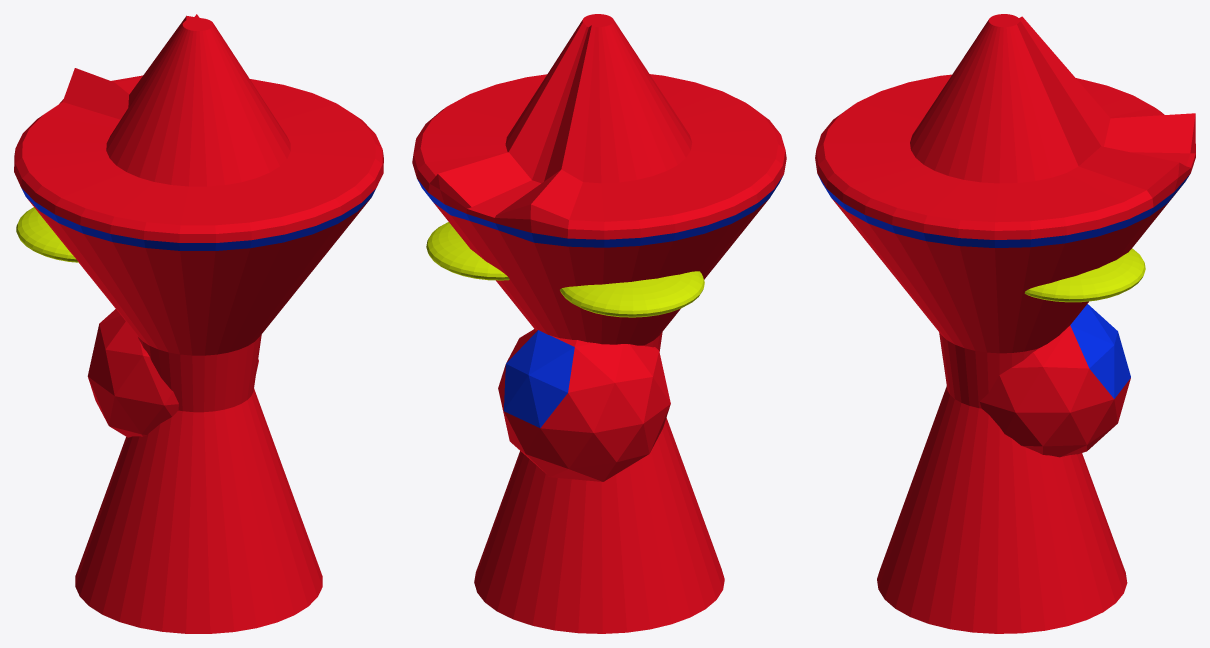
The model's file is randomnessssss.fbx.
3 renders of one model, left to right at view 1: azimuth 30°, elevation 25°; view 2: azimuth 150°, elevation 25°; view 3: azimuth 270°, elevation 25°, orthographic.
Visible parts, largest first — view 1: THe THing; view 2: THe THing; view 3: THe THing.
Part boxes in pixels (x1,y1,x2,y2): THe THing: [14, 14, 383, 633]; THe THing: [412, 14, 786, 633]; THe THing: [815, 14, 1195, 633].
Bounding box in the file's own units: 269 × 448 × 274.
